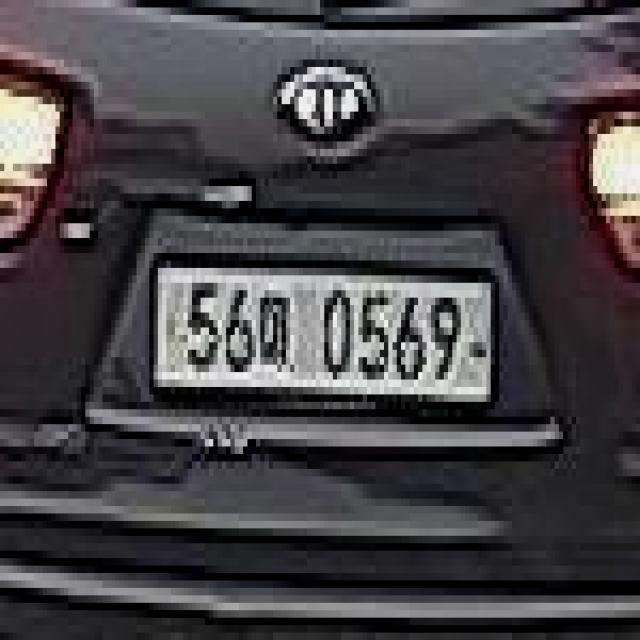illegal_plate: (151, 247, 503, 429)
